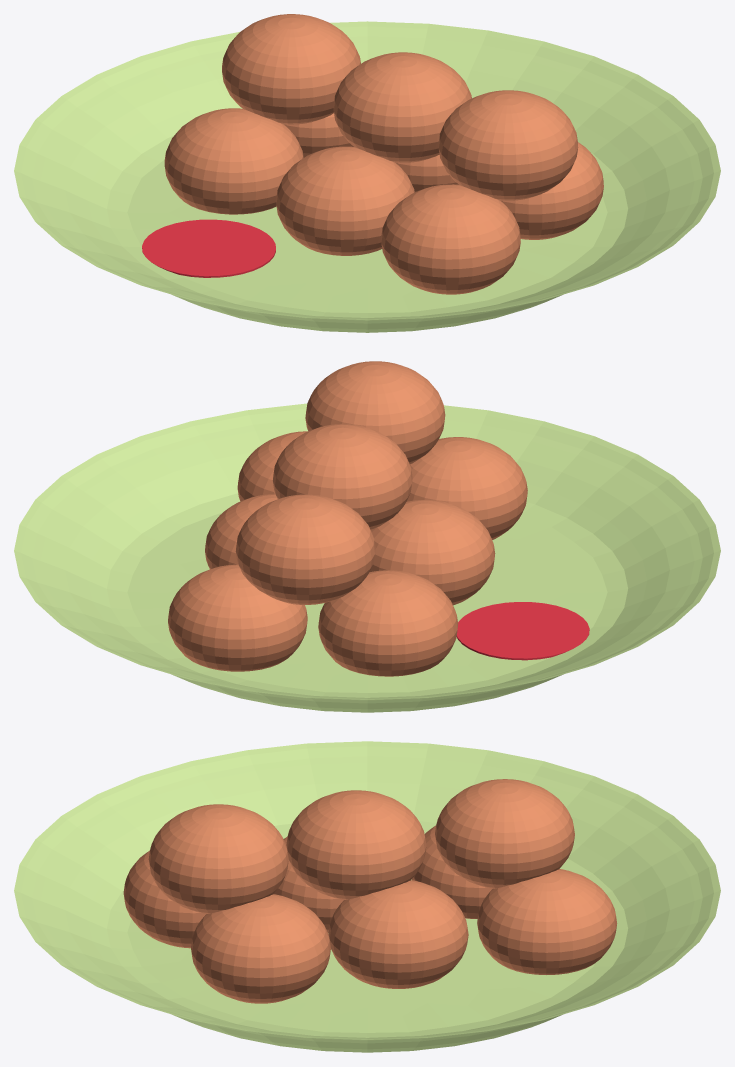
Rendered from kroket nasi.fbx.
3 views of the same model, one above another, from view 1: azimuth 30°, elevation 25°; view 2: azimuth 150°, elevation 25°; view 3: azimuth 270°, elevation 25° (orthographic).
Visible parts, largest first — view 1: Cylinder, Sphere.008, Sphere.005, Sphere.006, Sphere.003, Sphere.007, Sphere.004, Cylinder.001, Sphere.002, Sphere, Sphere.001; view 2: Cylinder, Sphere.006, Sphere.003, Sphere, Sphere.007, Sphere.008, Sphere.004, Sphere.005, Cylinder.001, Sphere.001, Sphere.002; view 3: Cylinder, Sphere.007, Sphere.006, Sphere.008, Sphere.002, Sphere.001, Sphere, Sphere.005, Sphere.003, Sphere.004.
Boxes of the visible parts, x1,y1,x2,y2 form: Cylinder: [14, 21, 720, 332]; Sphere.008: [438, 90, 578, 200]; Sphere.005: [381, 184, 520, 294]; Sphere.006: [222, 14, 360, 124]; Sphere.003: [164, 108, 303, 214]; Sphere.007: [333, 52, 471, 162]; Sphere.004: [276, 146, 414, 255]; Cylinder.001: [142, 219, 275, 277]; Sphere.002: [500, 142, 603, 239]; Sphere: [283, 113, 353, 157]; Sphere.001: [395, 155, 458, 192]; Cylinder: [14, 403, 720, 712]; Sphere.006: [235, 494, 375, 604]; Sphere.003: [318, 570, 458, 676]; Sphere: [168, 564, 307, 671]; Sphere.007: [272, 424, 412, 529]; Sphere.008: [305, 361, 445, 464]; Sphere.004: [369, 500, 495, 605]; Sphere.005: [406, 437, 527, 539]; Cylinder.001: [456, 602, 589, 660]; Sphere.001: [205, 494, 277, 569]; Sphere.002: [237, 431, 307, 501]; Cylinder: [14, 741, 720, 1052]; Sphere.007: [286, 790, 426, 899]; Sphere.006: [435, 779, 574, 888]; Sphere.008: [148, 804, 288, 913]; Sphere.002: [191, 894, 330, 1003]; Sphere.001: [328, 880, 468, 988]; Sphere: [477, 869, 617, 974]; Sphere.005: [123, 850, 205, 948]; Sphere.003: [411, 825, 492, 918]; Sphere.004: [273, 836, 343, 933].
Size of the model in its own units: 231 by 61.89 by 231.
